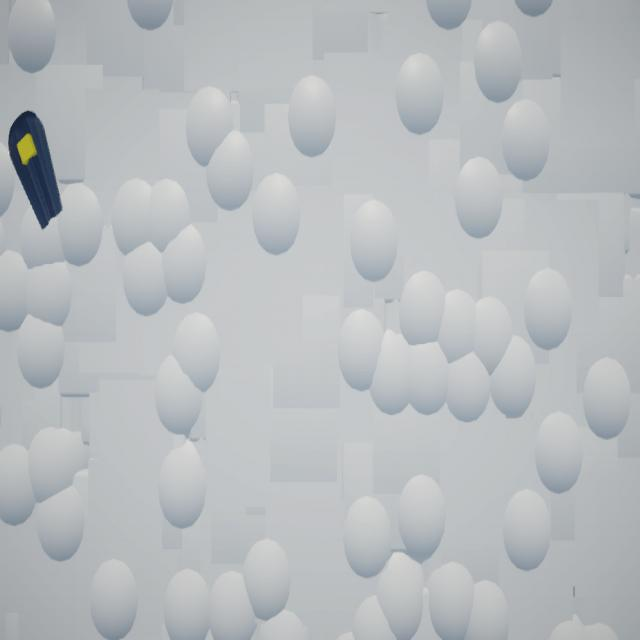handle_folk: (9, 112, 64, 232)
